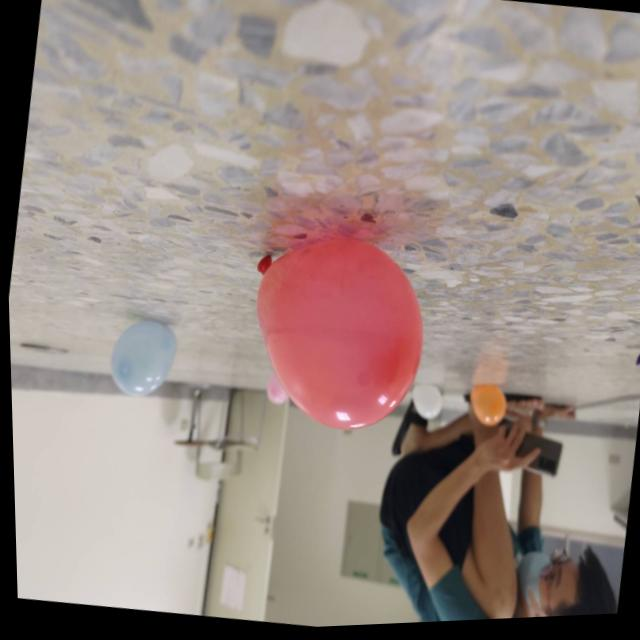other: (102, 317, 181, 408), (462, 387, 507, 437), (404, 387, 442, 425), (624, 353, 640, 417), (260, 375, 289, 409)
red: (231, 224, 439, 450)
